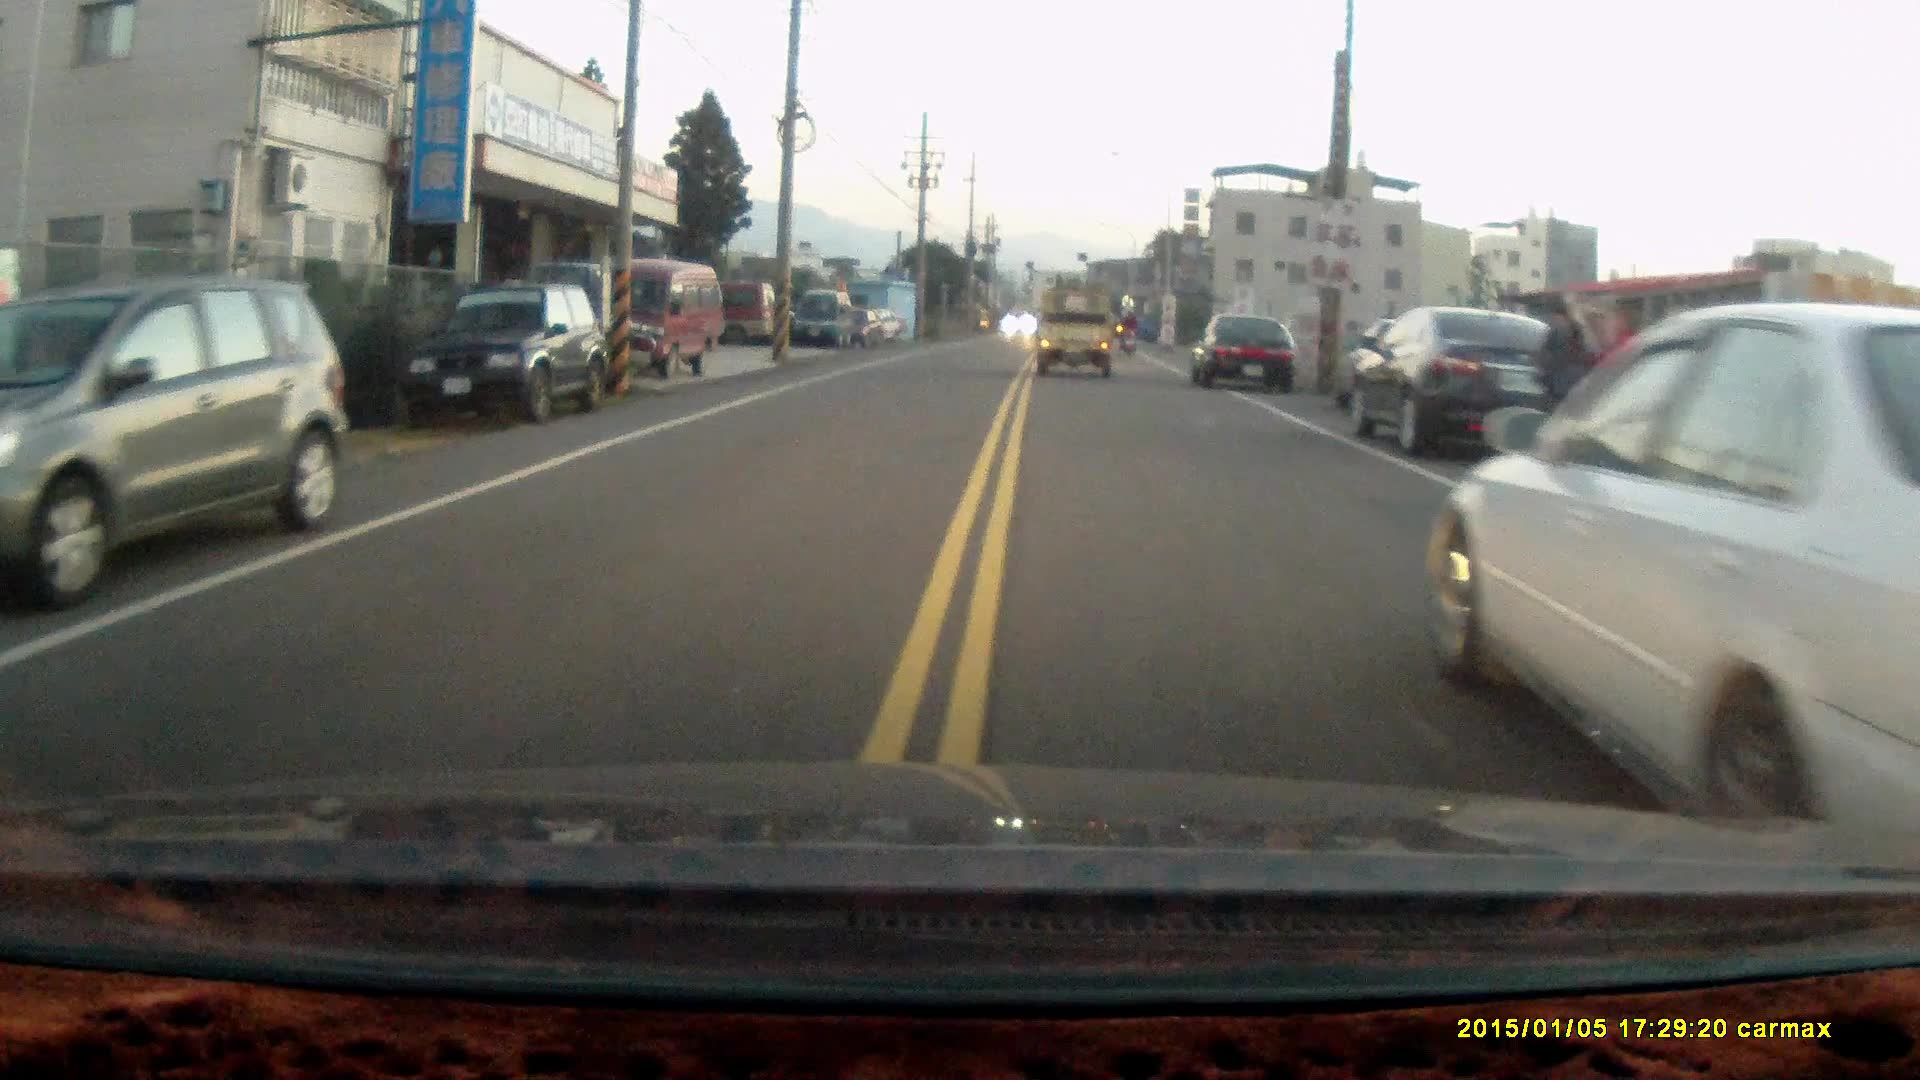pedestrian: (1525, 299, 1591, 477)
vehicle: (1438, 302, 1920, 834), (1, 280, 357, 602), (1349, 304, 1598, 463), (408, 279, 600, 426), (571, 256, 733, 382), (1193, 313, 1302, 392), (1033, 286, 1118, 371), (791, 290, 855, 346)
